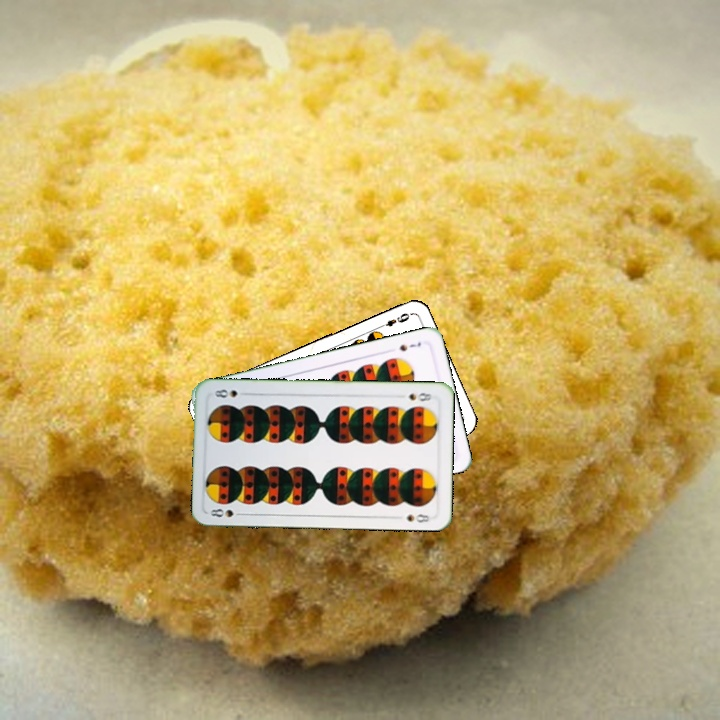E9: (375, 309, 412, 331)
S7: (395, 338, 423, 354)
S8: (206, 505, 247, 520), (405, 389, 434, 404)
